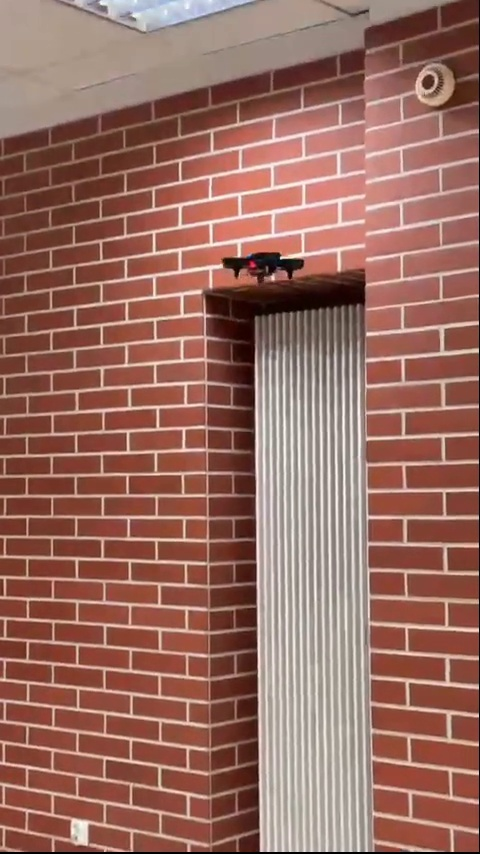drone: (217, 250, 303, 283)
